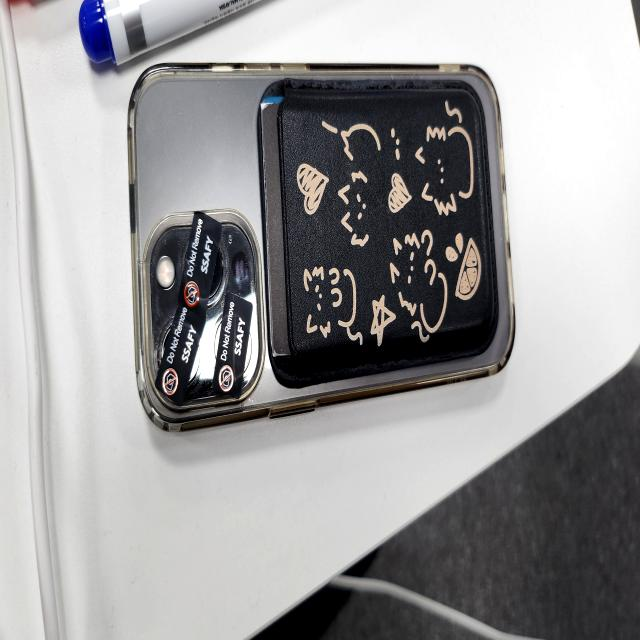phone: (125, 58, 517, 437)
sticker: (156, 297, 207, 403), (180, 203, 222, 318), (212, 290, 252, 400)
